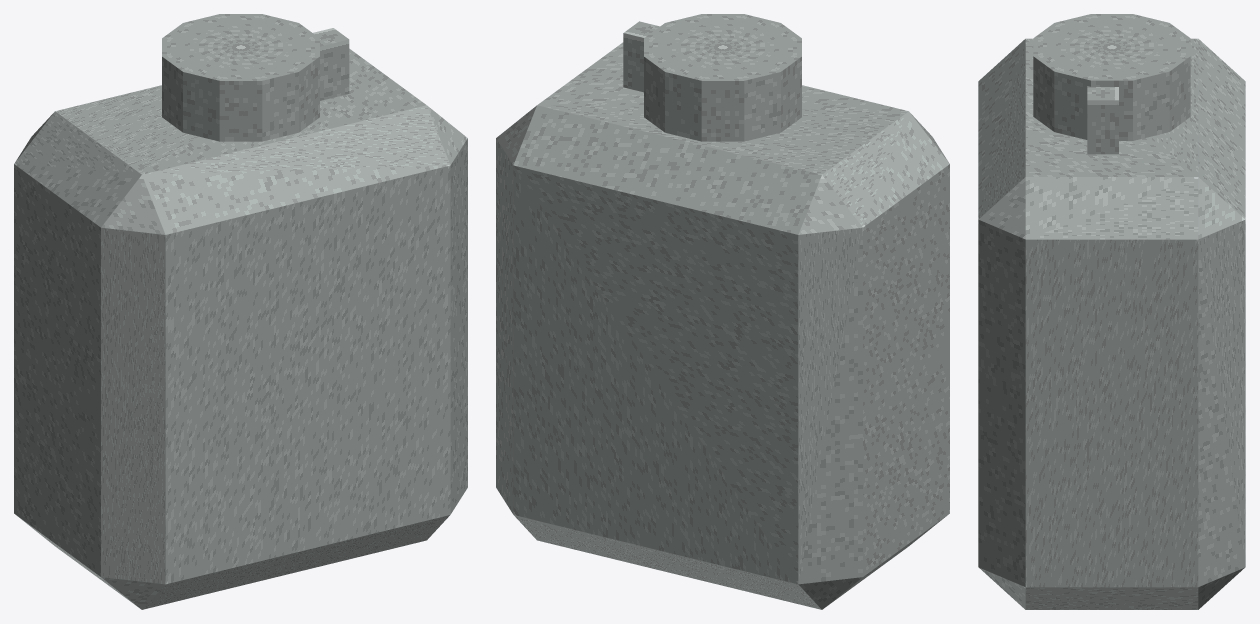
The model's file is flask_hip.glb.
The picture shows the model from 3 angles, left to right: view 1: azimuth 30°, elevation 25°; view 2: azimuth 150°, elevation 25°; view 3: azimuth 270°, elevation 25°; orthographic projection.
Visible parts, largest first — view 1: block_flattened flask, block_screw cap, block_retained cap arm; view 2: block_flattened flask, block_screw cap, block_retained cap arm; view 3: block_flattened flask, block_screw cap, block_retained cap arm.
Boxes of the visible parts, left/top/right/bottom form: block_flattened flask: left=14, top=48, right=467, bottom=609; block_screw cap: left=162, top=14, right=319, bottom=141; block_retained cap arm: left=313, top=28, right=349, bottom=100; block_flattened flask: left=496, top=42, right=949, bottom=609; block_screw cap: left=644, top=14, right=801, bottom=141; block_retained cap arm: left=623, top=21, right=659, bottom=92; block_flattened flask: left=978, top=38, right=1245, bottom=609; block_screw cap: left=1033, top=14, right=1190, bottom=140; block_retained cap arm: left=1087, top=86, right=1118, bottom=154.
Bounding box in the file's own units: 0.1006 × 0.13 × 0.0637.
1 material, 1 textured.
